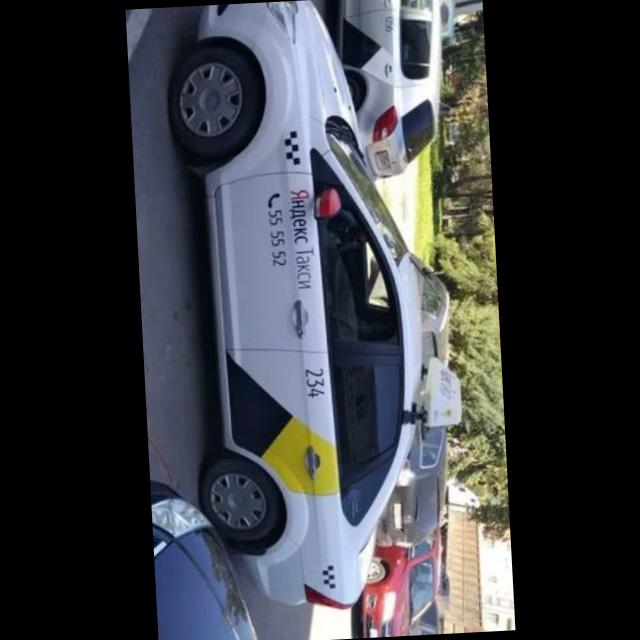taxi: (165, 1, 473, 618), (336, 1, 452, 183)
